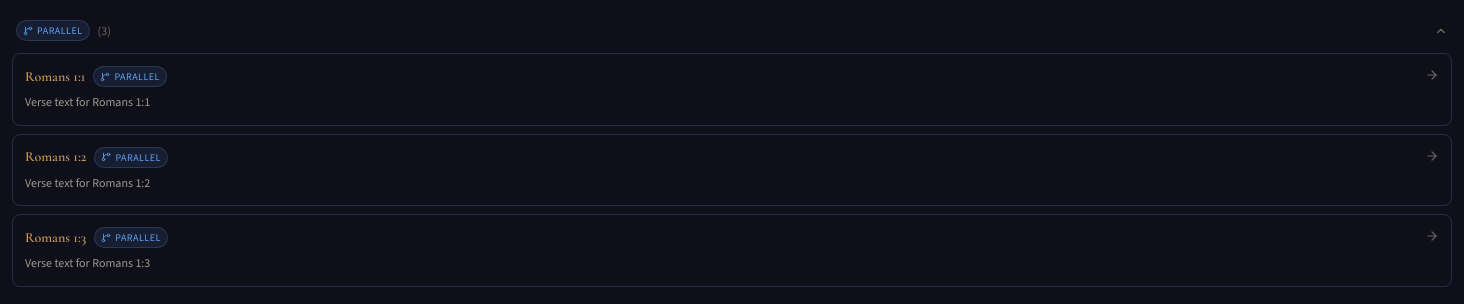
Test: CrossRefGroup › collapses the group and hides cards when the header is clicked
Expected: the text "Romans 1:1" is shown, 25,66 -> 85,86
Click the button with aria-label "parallel references" at [53, 30], box 12,12 -> 1452,49
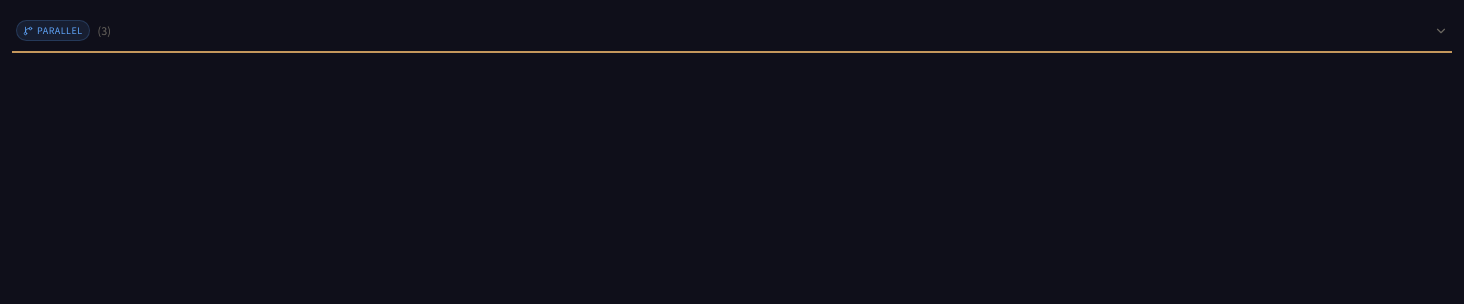
Result: the link "Romans 1:1" is gone
